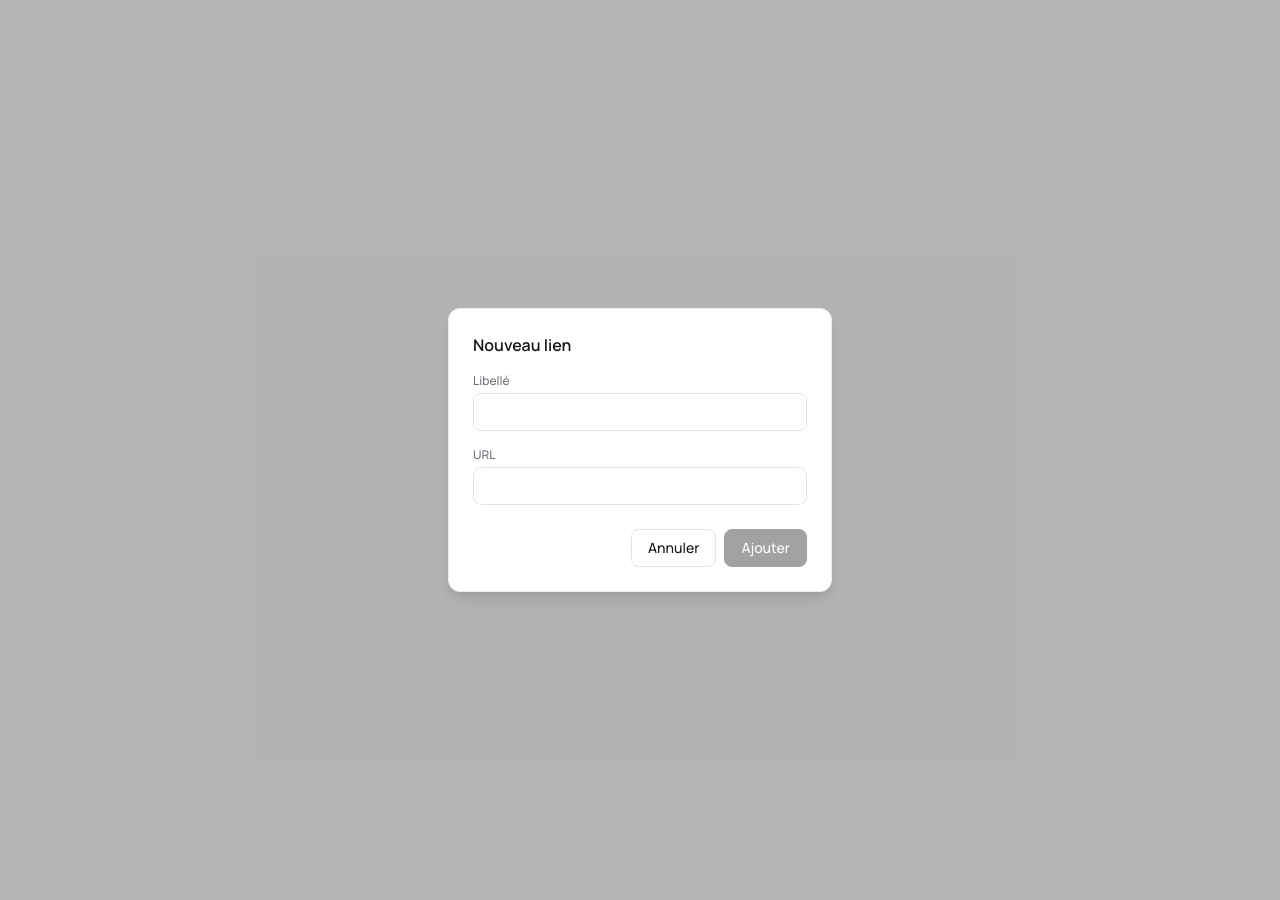
it: LinkForm safe-scheme validation › rejects a javascript: URL and does not submit
Type "X" into the field labelled "Libellé" at (640, 412), box 473,393 -> 807,431
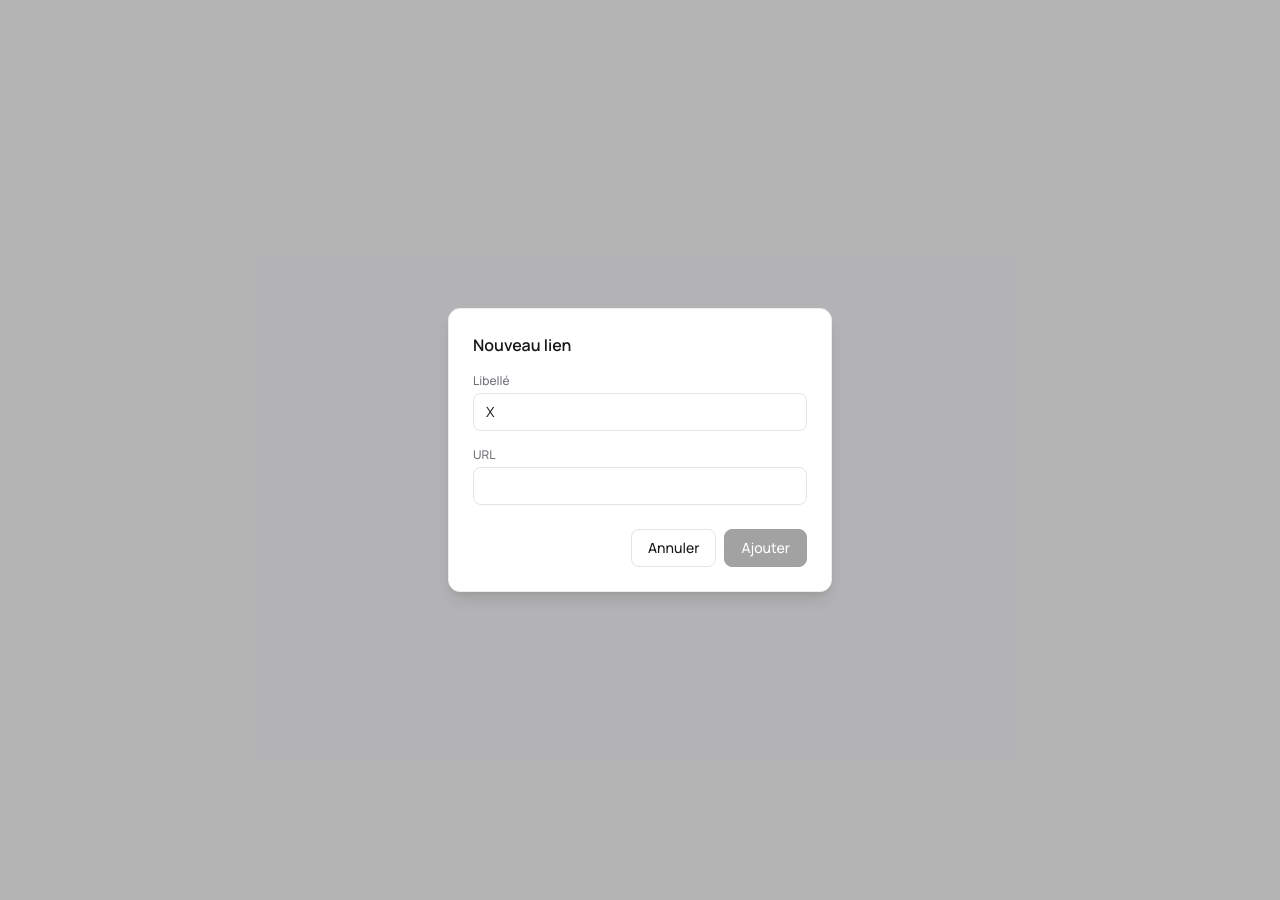
Type "javascript:alert(1)" into the field labelled "URL" at (640, 486), box 473,467 -> 807,505
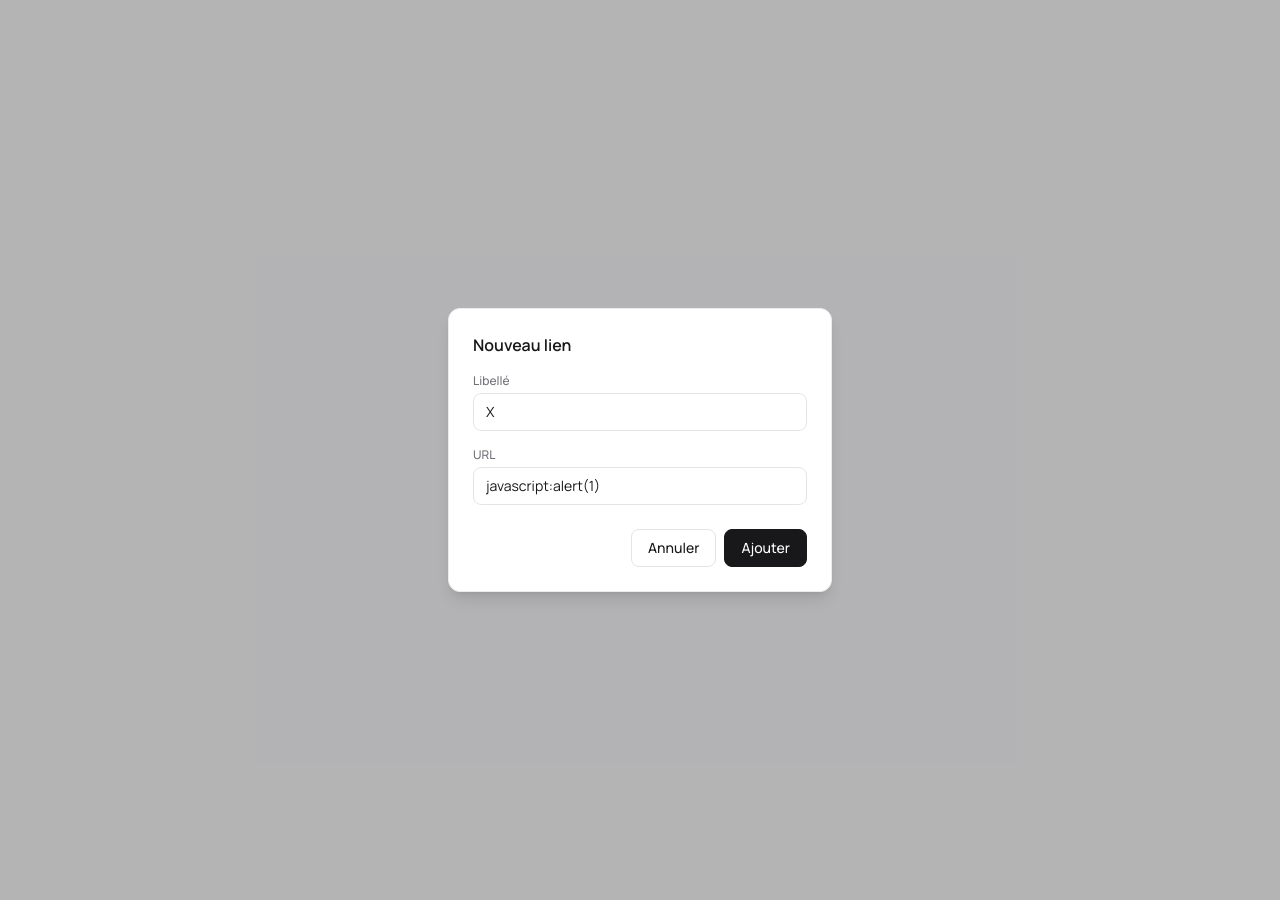
Click the button "Ajouter" at (766, 548), box 724,529 -> 807,567
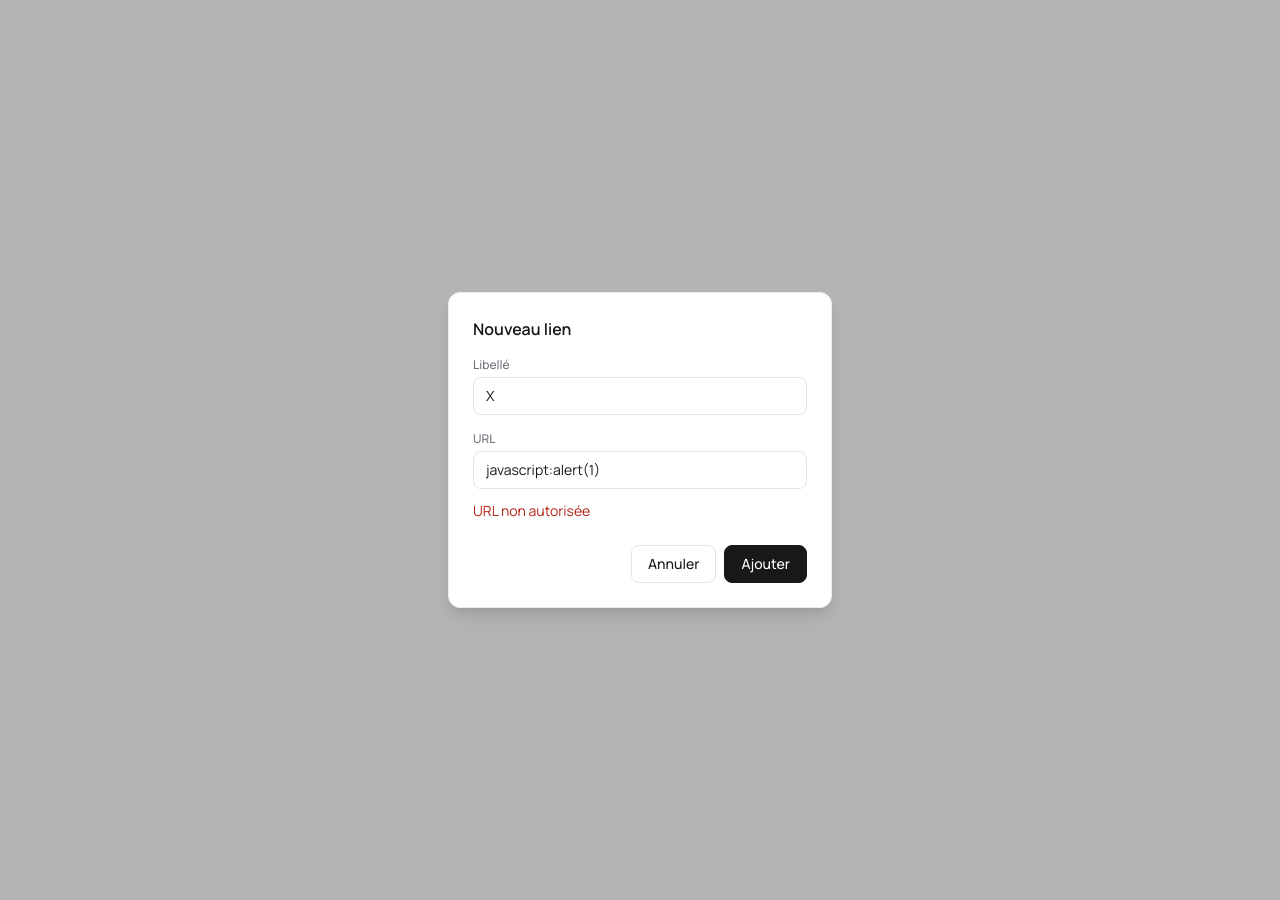
Expected: the text "URL non autorisée" is shown, 473,501 -> 590,520
